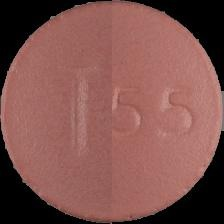51079-456: (0, 0, 224, 224)
